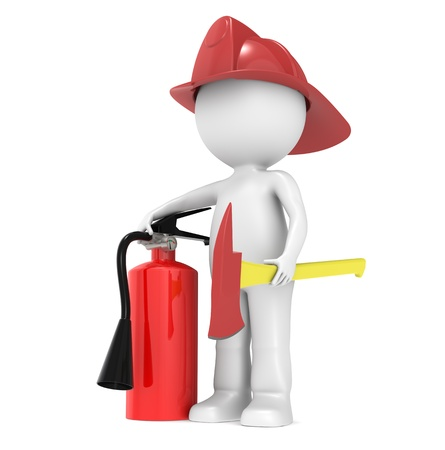fire_extinguisher: (97, 207, 212, 421)
